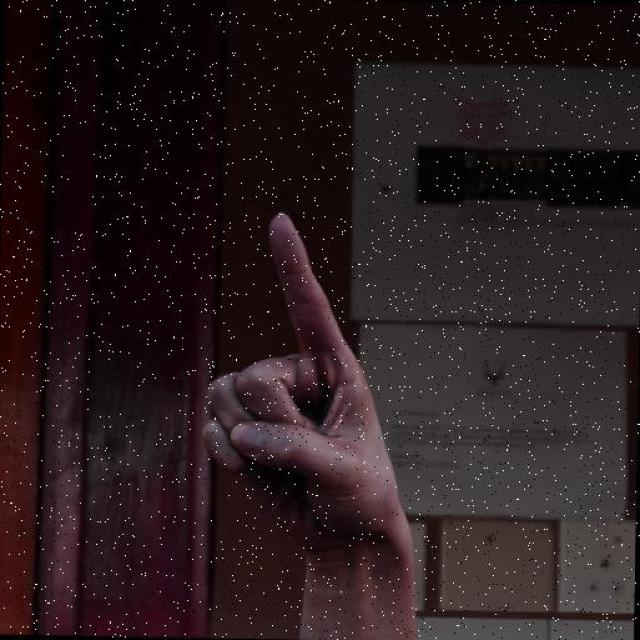Z: (195, 197, 419, 609)
